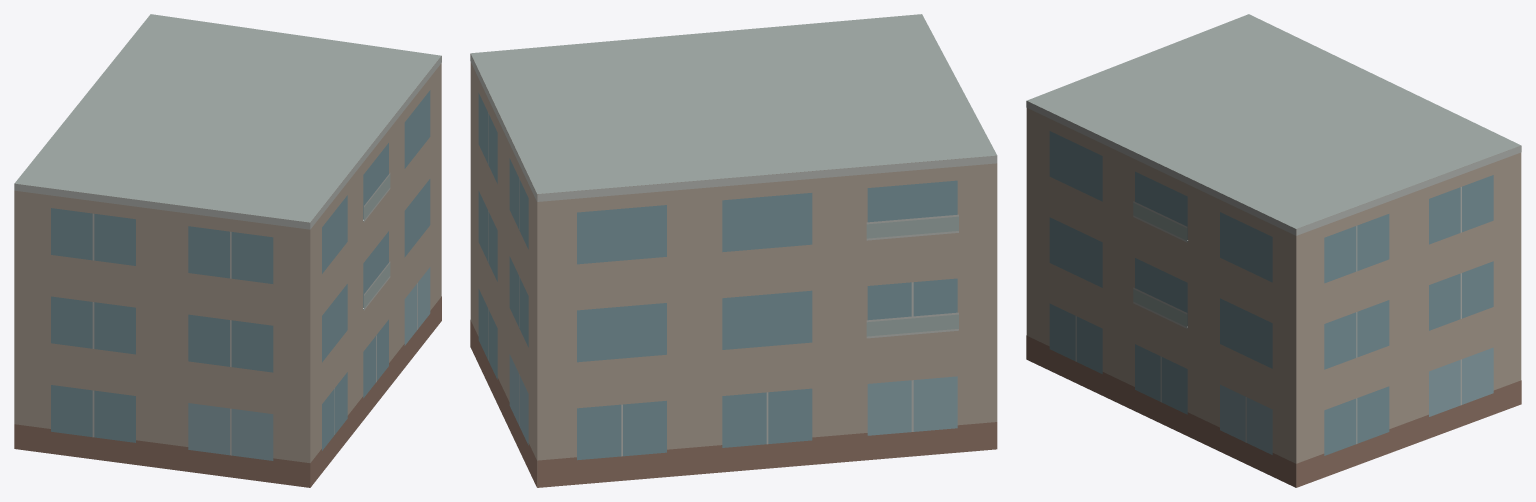
Rendered from survey-upis-32584589.glb.
The picture shows the model from 3 angles, left to right: view 1: azimuth 30°, elevation 25°; view 2: azimuth 150°, elevation 25°; view 3: azimuth 270°, elevation 25°; orthographic projection. The views are drawn at different scales.
Visible parts, largest first — view 1: survey-upis-32584589.tmp; view 2: survey-upis-32584589.tmp; view 3: survey-upis-32584589.tmp.
Boxes of the visible parts, left/top/right/bottom form: survey-upis-32584589.tmp: left=14, top=14, right=441, bottom=487; survey-upis-32584589.tmp: left=470, top=14, right=997, bottom=487; survey-upis-32584589.tmp: left=1026, top=14, right=1521, bottom=487.
Bounding box in the file's own units: 16.31 × 9.15 × 15.86.
